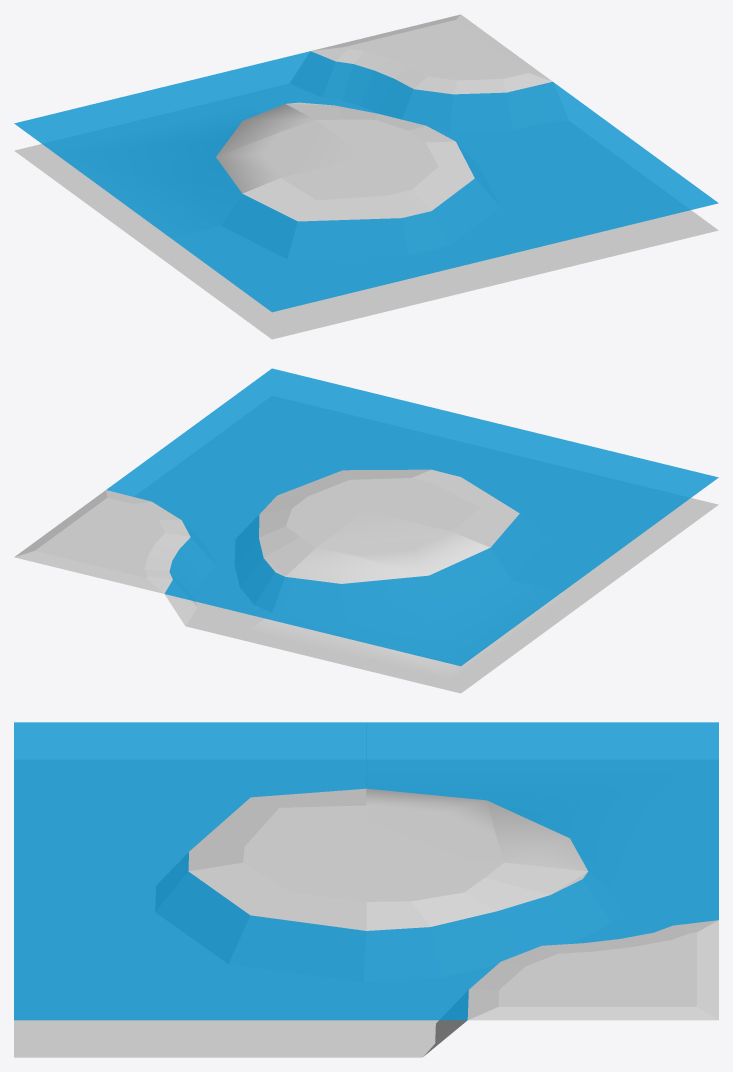
Rendered from Sparrow.fbx.
3 renders of one model, top to bottom at view 1: azimuth 30°, elevation 25°; view 2: azimuth 150°, elevation 25°; view 3: azimuth 270°, elevation 25°, orthographic. The views are drawn at different scales.
Visible parts, largest first — view 1: land, water; view 2: land, water; view 3: land, water.
Part boxes in pixels (x1,y1,x2,y2): land: [14, 14, 718, 339]; water: [14, 51, 718, 312]; land: [14, 396, 718, 693]; water: [106, 368, 718, 666]; land: [14, 760, 718, 1057]; water: [14, 722, 718, 1020].
Size of what is drawn, in the model's own units: 20000 by 1438 by 20000.
